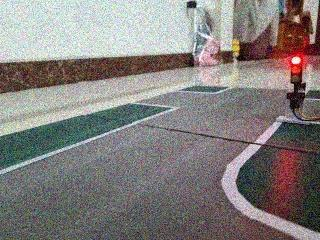red: (284, 45, 312, 97)
